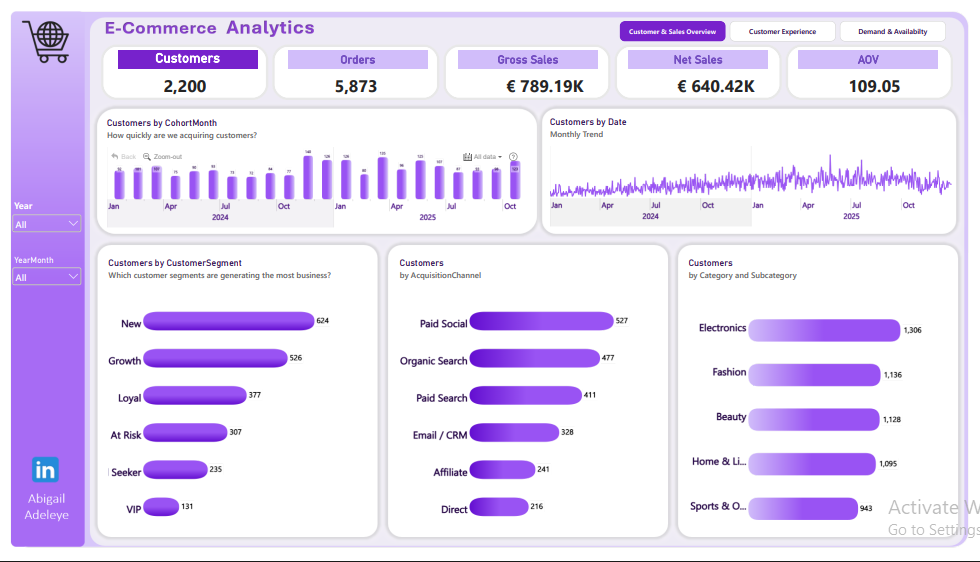

The page's visual inventory and layout, read from the dashboard file:
{"tool":"powerbi","page":{"name":"Customer & Sales Overview","canvas":[1920,1080],"ordinal":0},"visuals":[{"type":"cardVisual","fields":{"Data":["_measures.Customers","_measures.Orders","_measures.Gross Sales","_measures.Net Sales","_measures.AOV"]},"box":[182.3,69,1704.4,111.1],"z":0},{"type":"ZoomChartsTimeChartPaidE77E4ED357DC402ABA005987437CF500","fields":{"Values1":["_measures.Customers"],"Category":["DimCustomer.CohortMonth"]},"box":[177.5,201.2,860,250],"z":1000},{"type":"ZoomChartsTimeChartPaidE77E4ED357DC402ABA005987437CF500","fields":{"Values1":["_measures.Customers"],"Category":["DimDate.Date"]},"box":[1062.5,198.8,835,250],"z":2000},{"type":"ZoomChartsDrillDownComboBarProE77E4ED357DC402ABA005987437CF8","fields":{"Values1":["_measures.Customers"],"Category":["DimCustomer.AcquisitionChannel"]},"box":[762.8,481.4,544.2,569.8],"z":3000},{"type":"ZoomChartsDrillDownComboBarProE77E4ED357DC402ABA005987437CF8","fields":{"Values1":["_measures.Customers"],"Category":["DimProduct.Category","DimProduct.Subcategory"]},"box":[1340.2,481.5,545,570],"z":4000},{"type":"advancedSlicerVisual","fields":{"Values":["KPI 1 .KPI 1 "]},"box":[194.5,69.1,1680,57.8],"z":5000},{"type":"slicer","fields":{"Values":["DimDate.Year"]},"box":[0,377.4,146.5,74.4],"z":6000},{"type":"ZoomChartsDrillDownComboBarProE77E4ED357DC402ABA005987437CF8","fields":{"Values1":["_measures.Customers"],"Category":["DimCustomer.CustomerSegment"]},"box":[181.4,481.4,544.2,569.8],"z":7000},{"type":"slicer","fields":{"Values":["DimDate.YearMonth"]},"box":[0,489,146.5,69.8],"z":8000},{"type":"pageNavigator","box":[1218.2,21.6,652.3,41],"z":8001}]}

Visuals, with their boxes in screenshot pixels (x1, y1, x2, y2), scaled from the page's 1920x1080 canvas onto the 980x562 screenshot:
cardVisual - _measures.Customers x _measures.Orders: [93,36,963,94]
ZoomChartsTimeChartPaidE77E4ED357DC402ABA005987437CF500 - _measures.Customers x DimCustomer.CohortMonth: [91,105,530,235]
ZoomChartsTimeChartPaidE77E4ED357DC402ABA005987437CF500 - _measures.Customers x DimDate.Date: [542,103,969,234]
ZoomChartsDrillDownComboBarProE77E4ED357DC402ABA005987437CF8 - _measures.Customers x DimCustomer.AcquisitionChannel: [389,251,667,547]
ZoomChartsDrillDownComboBarProE77E4ED357DC402ABA005987437CF8 - _measures.Customers x DimProduct.Category: [684,251,962,547]
advancedSlicerVisual - KPI 1 .KPI 1 : [99,36,957,66]
slicer - DimDate.Year: [0,196,75,235]
ZoomChartsDrillDownComboBarProE77E4ED357DC402ABA005987437CF8 - _measures.Customers x DimCustomer.CustomerSegment: [93,251,370,547]
slicer - DimDate.YearMonth: [0,254,75,291]
pageNavigator: [622,11,955,33]
